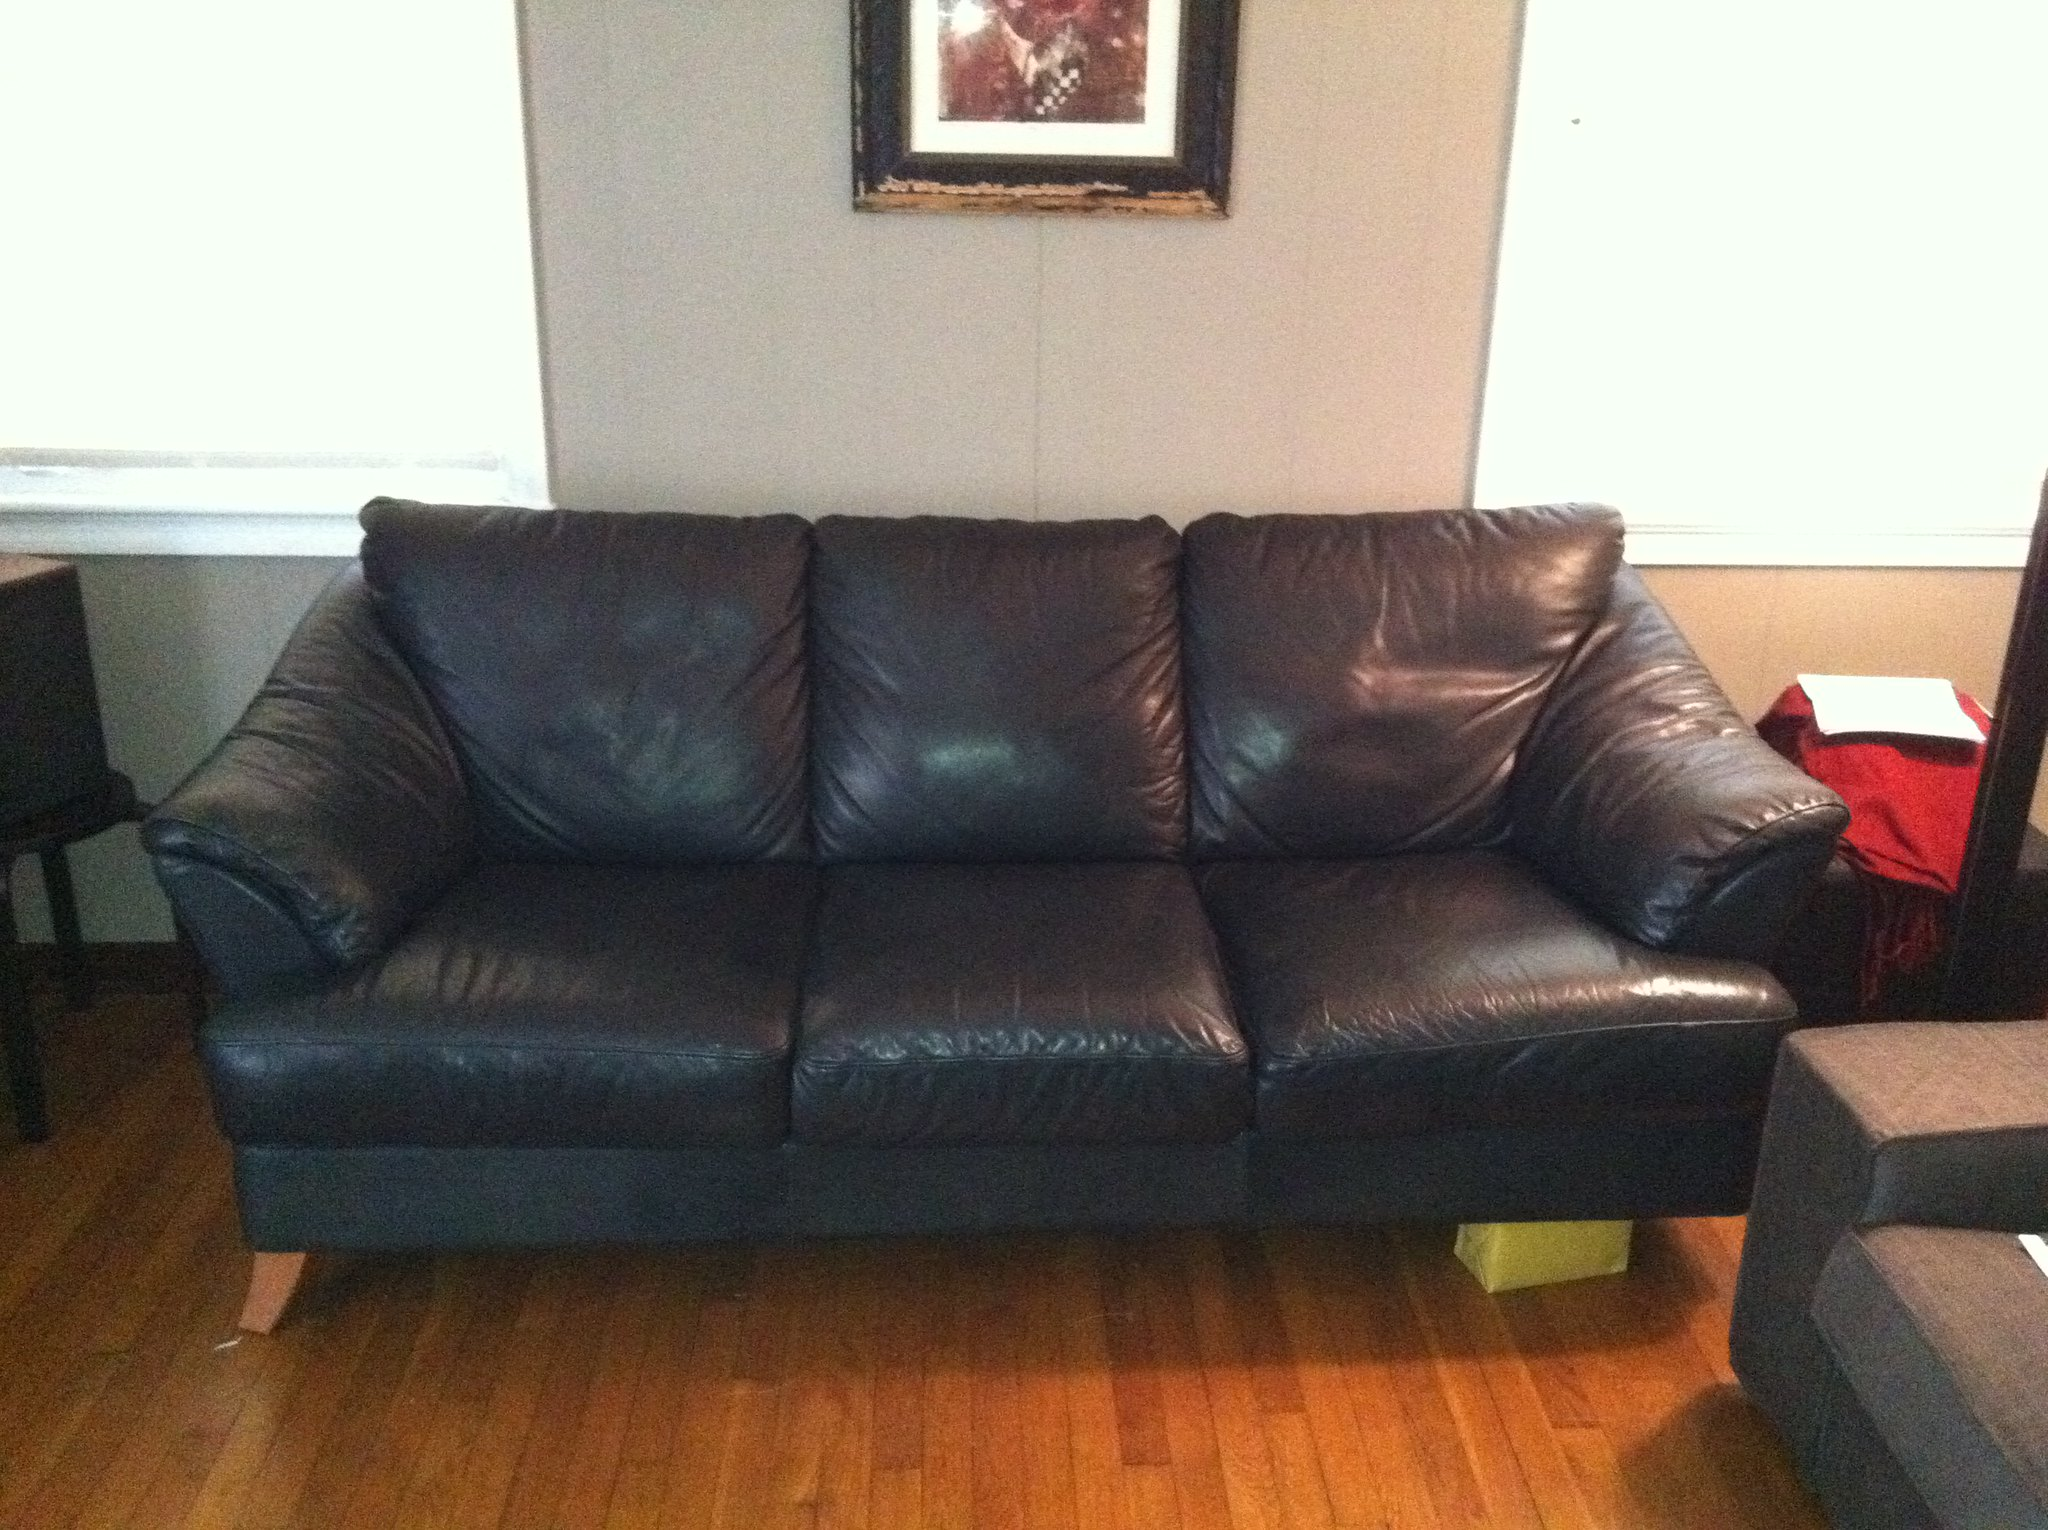sofa: (129, 484, 1796, 1308)
